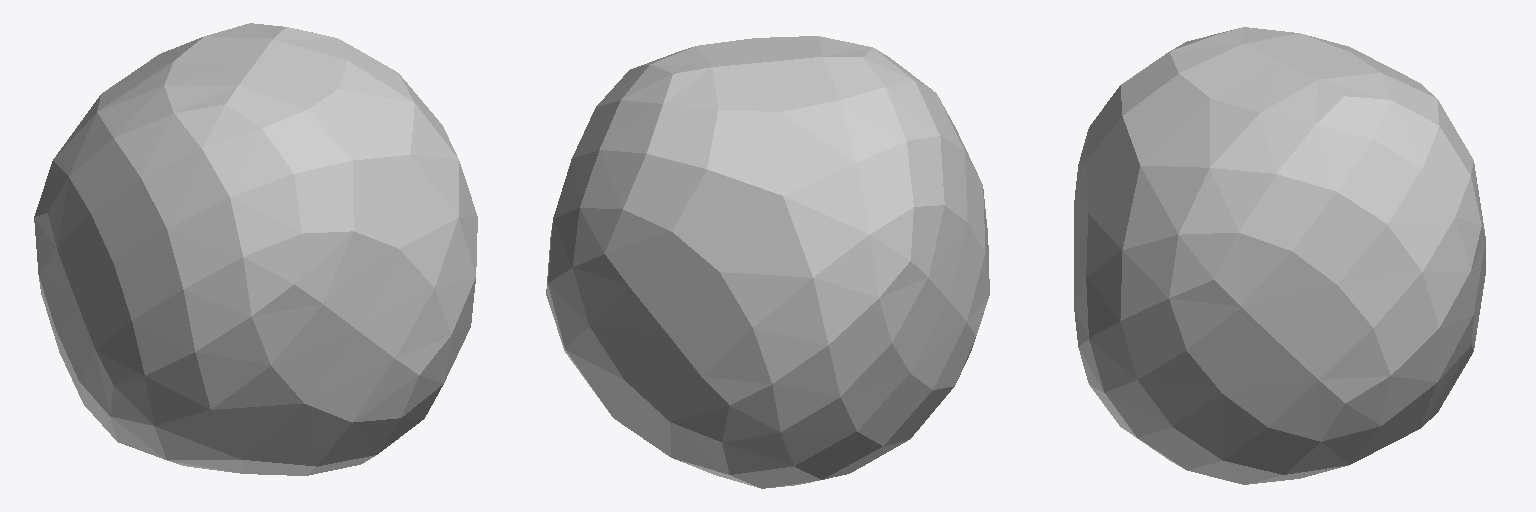
Rendered from rock.obj.
The picture shows the model from 3 angles: view 1: azimuth 30°, elevation 25°; view 2: azimuth 150°, elevation 25°; view 3: azimuth 270°, elevation 25°; orthographic projection.
Parts seen in each view (by area): view 1: cube; view 2: cube; view 3: cube.
Part boxes in pixels (x1,y1,x2,y2): cube: (34, 23, 477, 475); cube: (546, 36, 989, 488); cube: (1074, 27, 1485, 484).
Size of the model in its own units: 47.6 by 49.01 by 47.07.